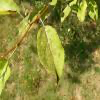Apple Scab Leaf: (36, 24, 68, 88), (18, 7, 40, 45), (76, 1, 89, 24)
